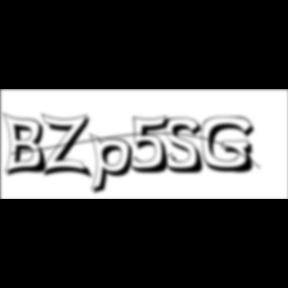5: (130, 114, 176, 176)
B: (3, 111, 53, 179)
G: (202, 116, 262, 176)
S: (164, 117, 210, 176)
Z: (42, 112, 96, 181)
p: (90, 132, 140, 198)
